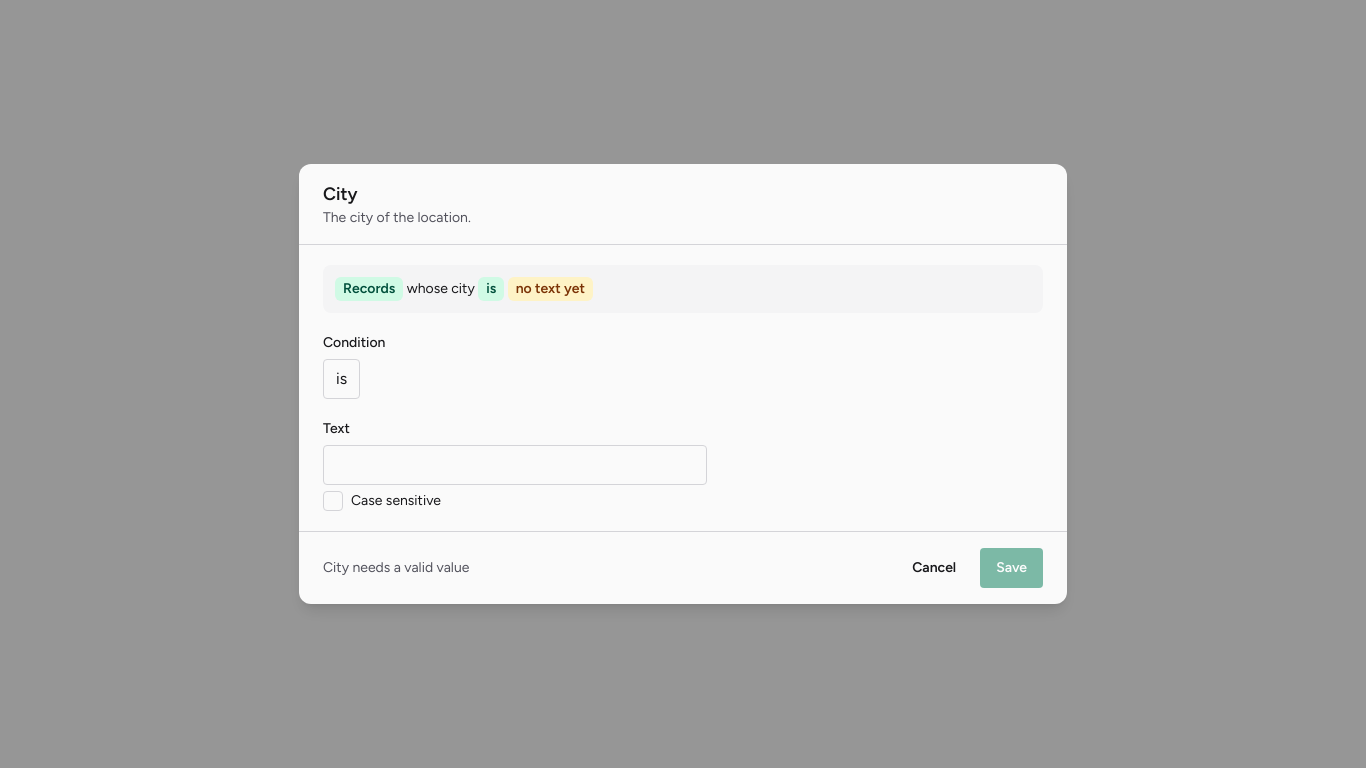
Test: previews the sentence as it is edited
The image size is (1366, 768).
Step 1. Type "Austin" into the field named "Value" → (515, 465), box x1=323 y1=445 x2=707 y2=485
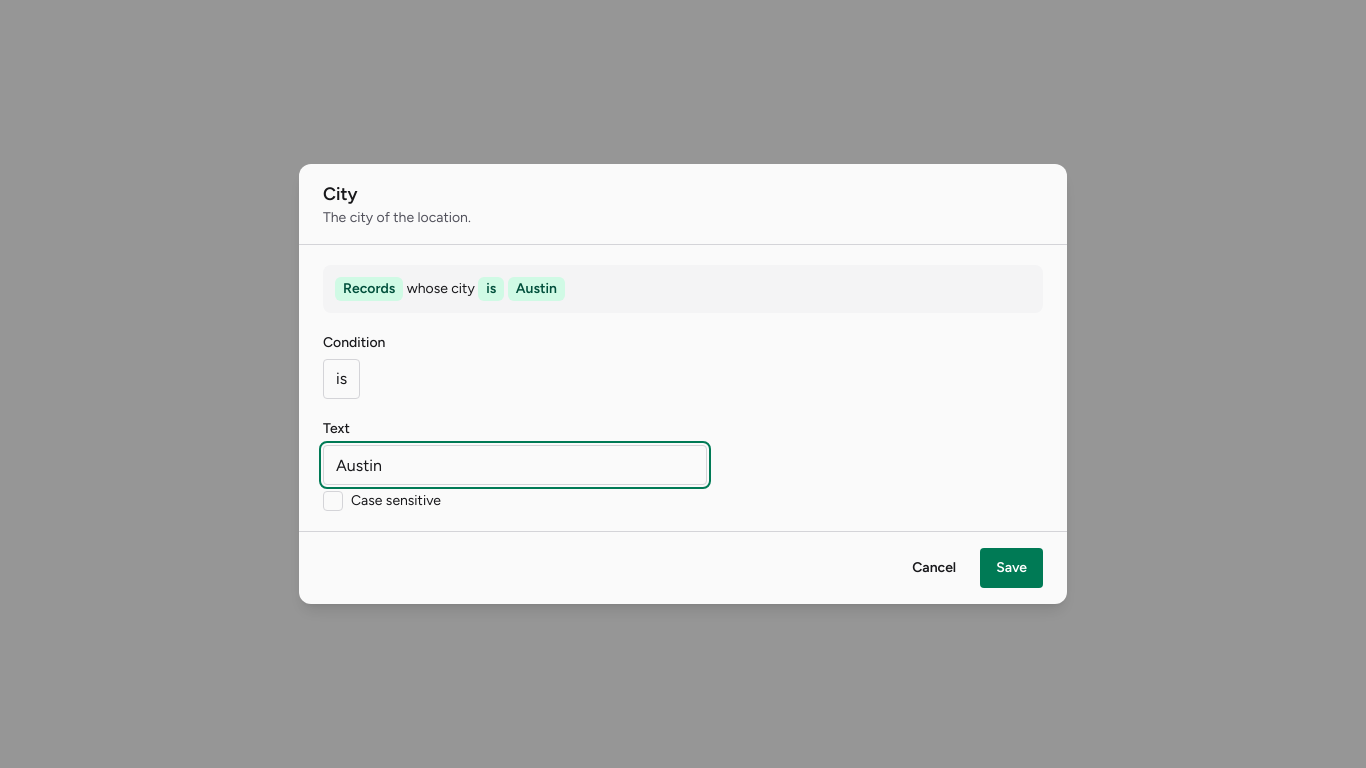
Check: the element named "Preview" shows "whose city is Austin", box x1=323 y1=265 x2=1043 y2=313
